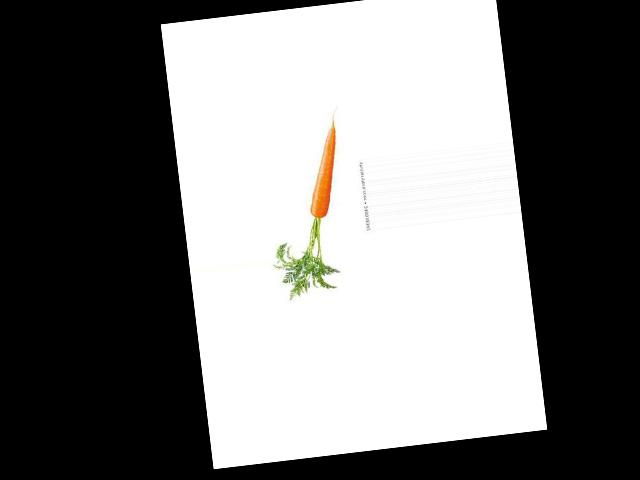carrot: (299, 120, 353, 222)
